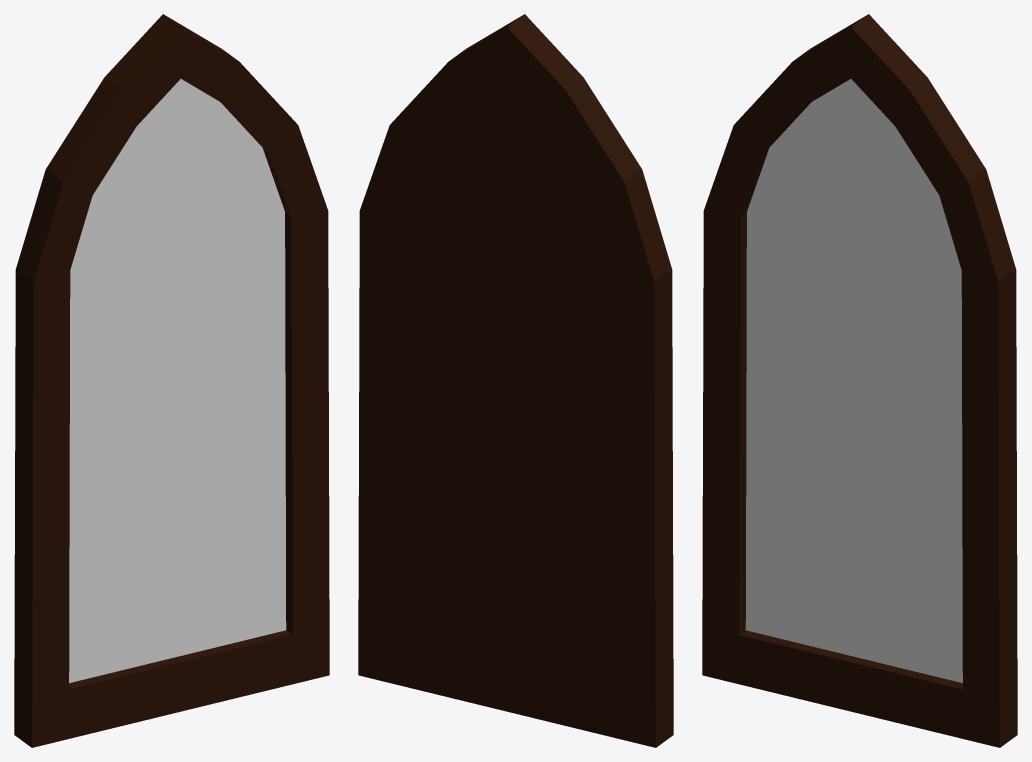
File: Mirror.fbx
3 renders of one model, left to right at view 1: azimuth 30°, elevation 25°; view 2: azimuth 150°, elevation 25°; view 3: azimuth 330°, elevation 25°, orthographic.
Parts seen in each view (by area): view 1: WindowGothic; view 2: WindowGothic; view 3: WindowGothic.
Boxes of the visible parts, x1,y1,x2,y2 form: WindowGothic: (14, 14, 329, 747); WindowGothic: (358, 14, 673, 747); WindowGothic: (702, 14, 1017, 747).
Size of the model in its own units: 115 by 253 by 11.92.
